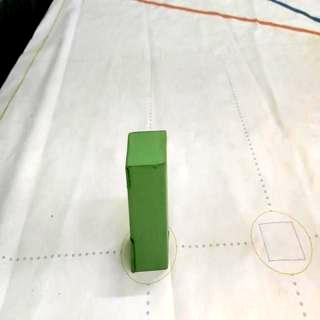greenbox: (125, 129, 168, 274)
